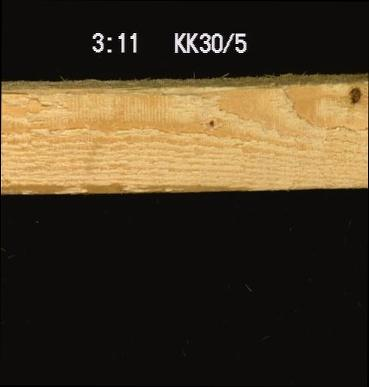dry_knot: (345, 83, 363, 106)
small_knot: (206, 115, 217, 131)
wave: (4, 73, 230, 95)
